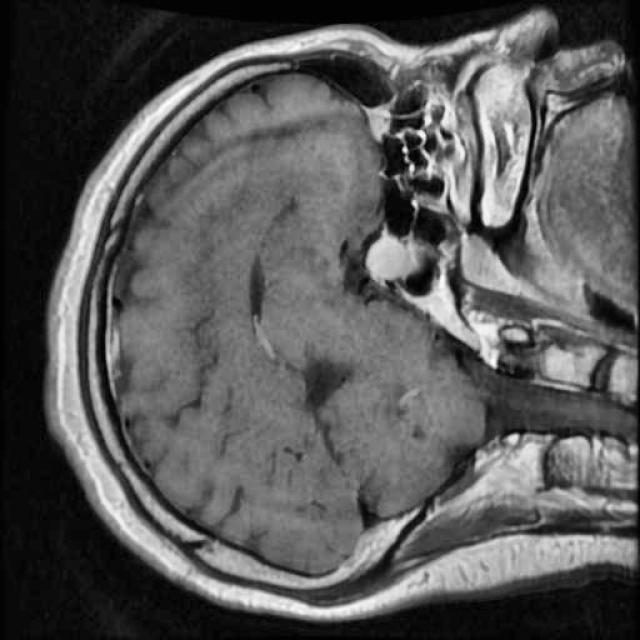Tumor: (360, 226, 418, 300)
